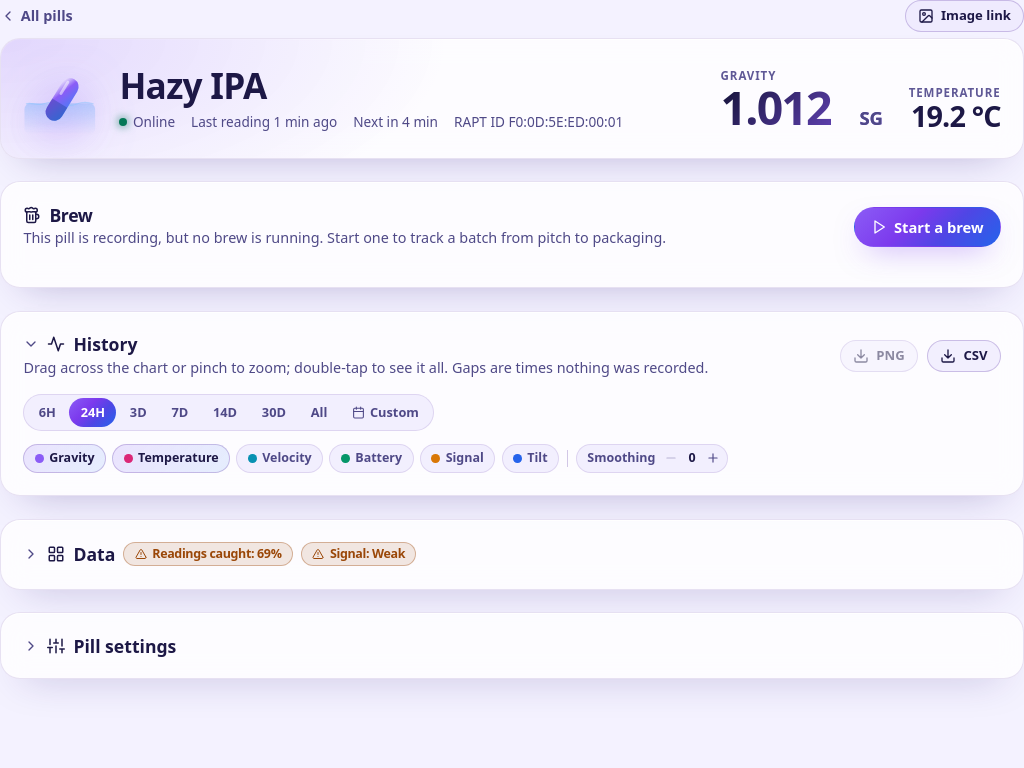
pill page › shows poor reception in the heading of the folded data
expect the heading "Data Readings caught: 69% Signal: Weak" is shown: met, box [23, 542, 416, 566]
Click the button "Data".
click(69, 554)  # box [16, 539, 122, 569]
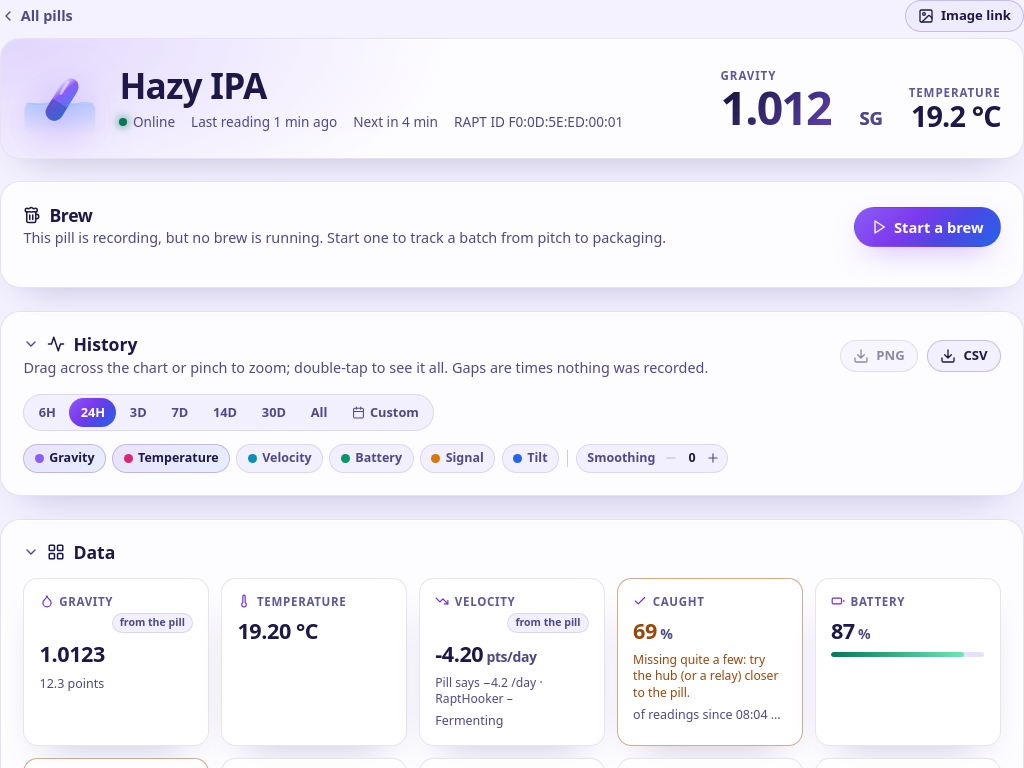
expect the heading "Data" is shown: met, box [23, 542, 115, 562]
